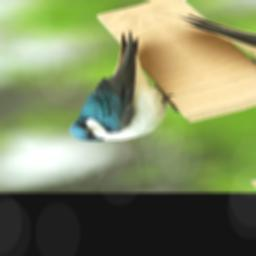Swallow: (0, 28, 219, 152)
